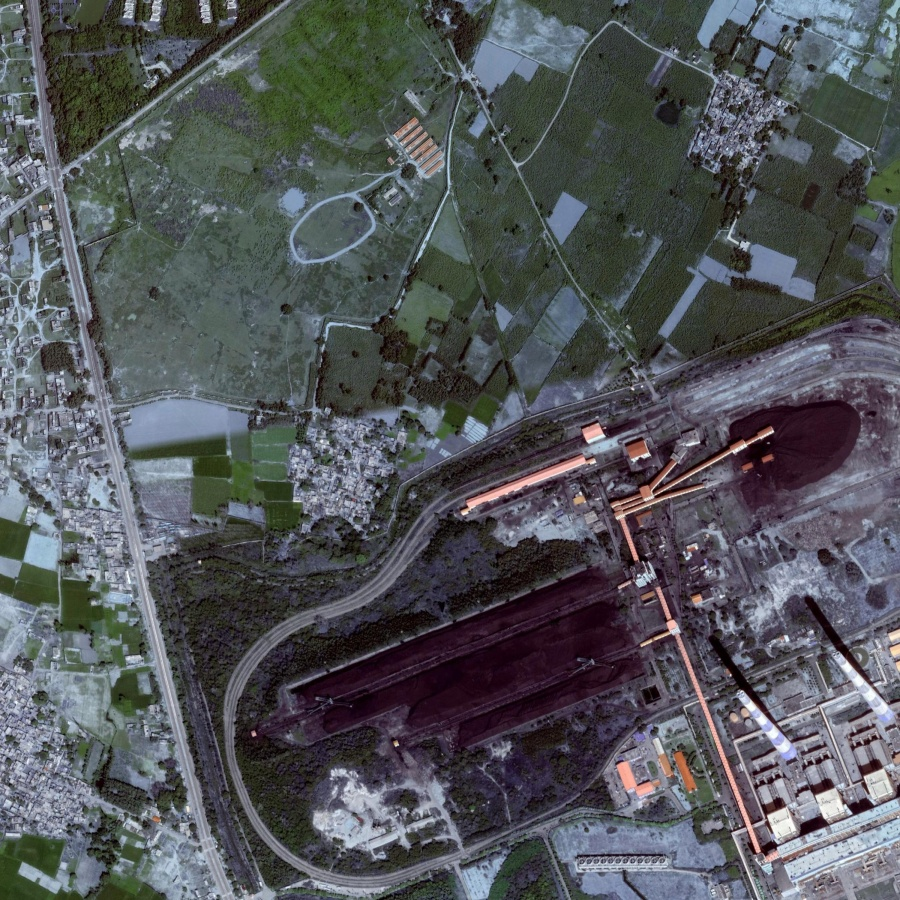PowerPlant: (248, 365, 856, 874)
